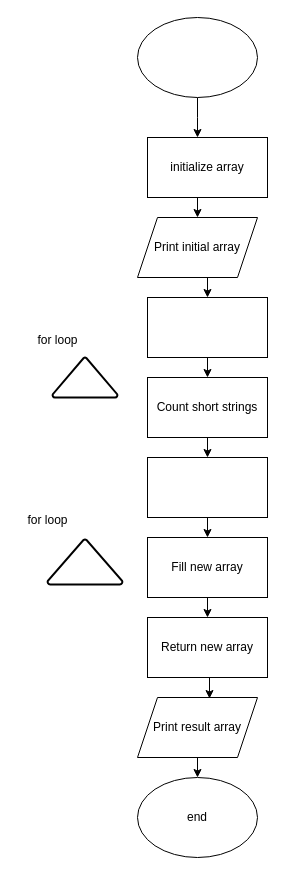
This 285x875 diagram has some shape labels left out. The shapes that lost their labels are listed below. From the top down, each one's centre as x and y in pixels, then its label:
(x=197, y=57): START
(x=207, y=327): GetShortStringsArray Method
(x=207, y=487): Create new array
